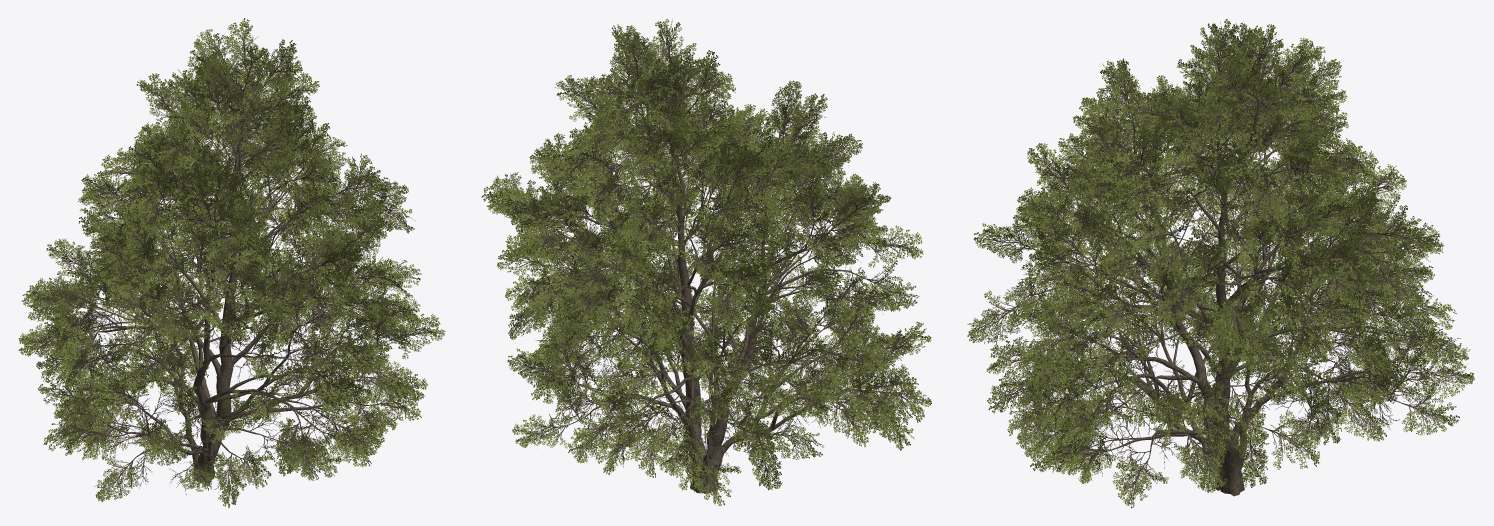
File: SM_BlackAlder_Field_02_PP_LOD4.gltf
The picture shows the model from 3 angles, left to right: view 1: azimuth 30°, elevation 25°; view 2: azimuth 150°, elevation 25°; view 3: azimuth 270°, elevation 25°; orthographic projection. The views are drawn at different scales.
Parts seen in each view (by area): view 1: SM_BlackAlder_Field_02_PP; view 2: SM_BlackAlder_Field_02_PP; view 3: SM_BlackAlder_Field_02_PP.
Boxes of the visible parts, left/top/right/bottom form: SM_BlackAlder_Field_02_PP: left=18, top=18, right=445, bottom=508; SM_BlackAlder_Field_02_PP: left=481, top=19, right=931, bottom=505; SM_BlackAlder_Field_02_PP: left=967, top=19, right=1474, bottom=508.
Bounding box in the file's own units: 16.54 × 17.36 × 16.32.
2 materials, 2 textured.
